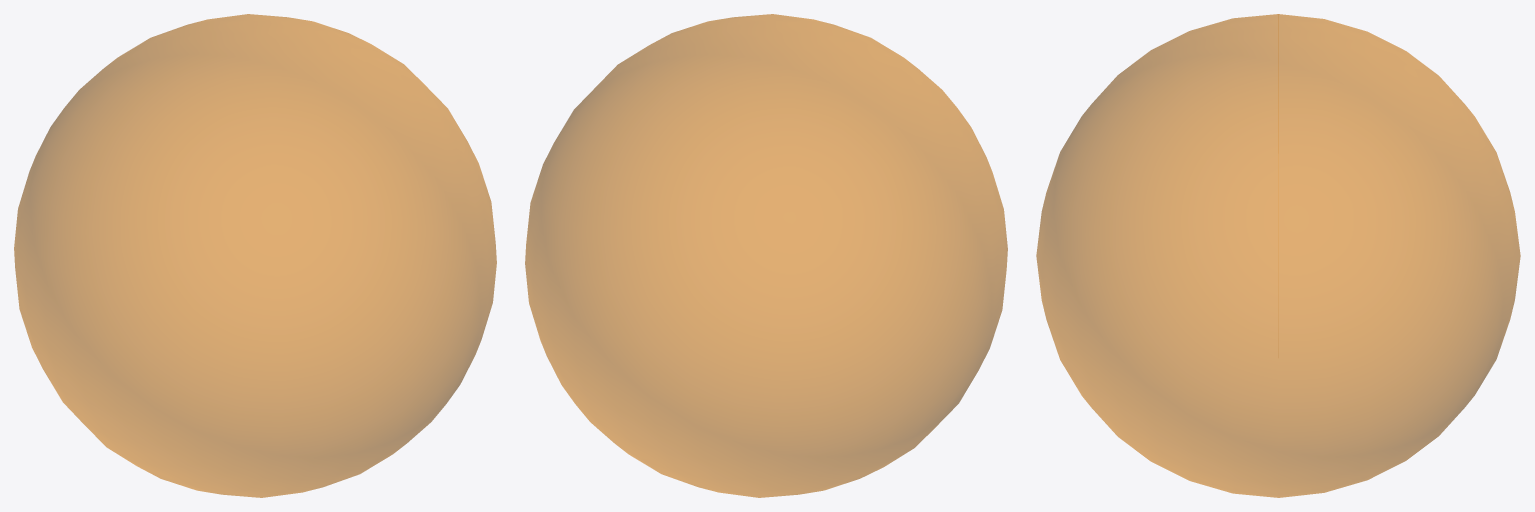
Rendered from GoalRegion.obj.
3 views of the same model, side by side, from view 1: azimuth 30°, elevation 25°; view 2: azimuth 150°, elevation 25°; view 3: azimuth 270°, elevation 25° (orthographic).
Size of the model in its own units: 1 by 1 by 1.
